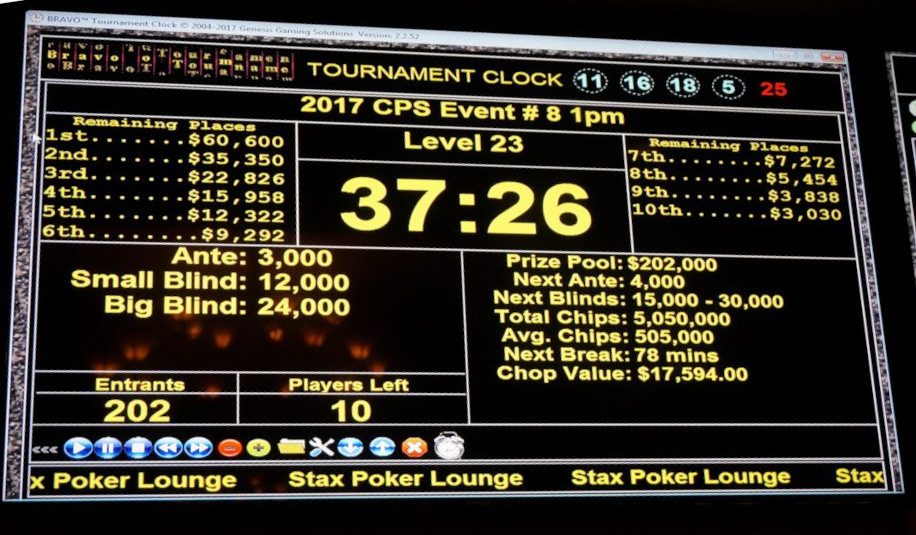PlayersLeft: (234, 370, 473, 427)
Remaining: (39, 110, 299, 247), (622, 133, 857, 260)
TournamentClock: (34, 79, 884, 429)
